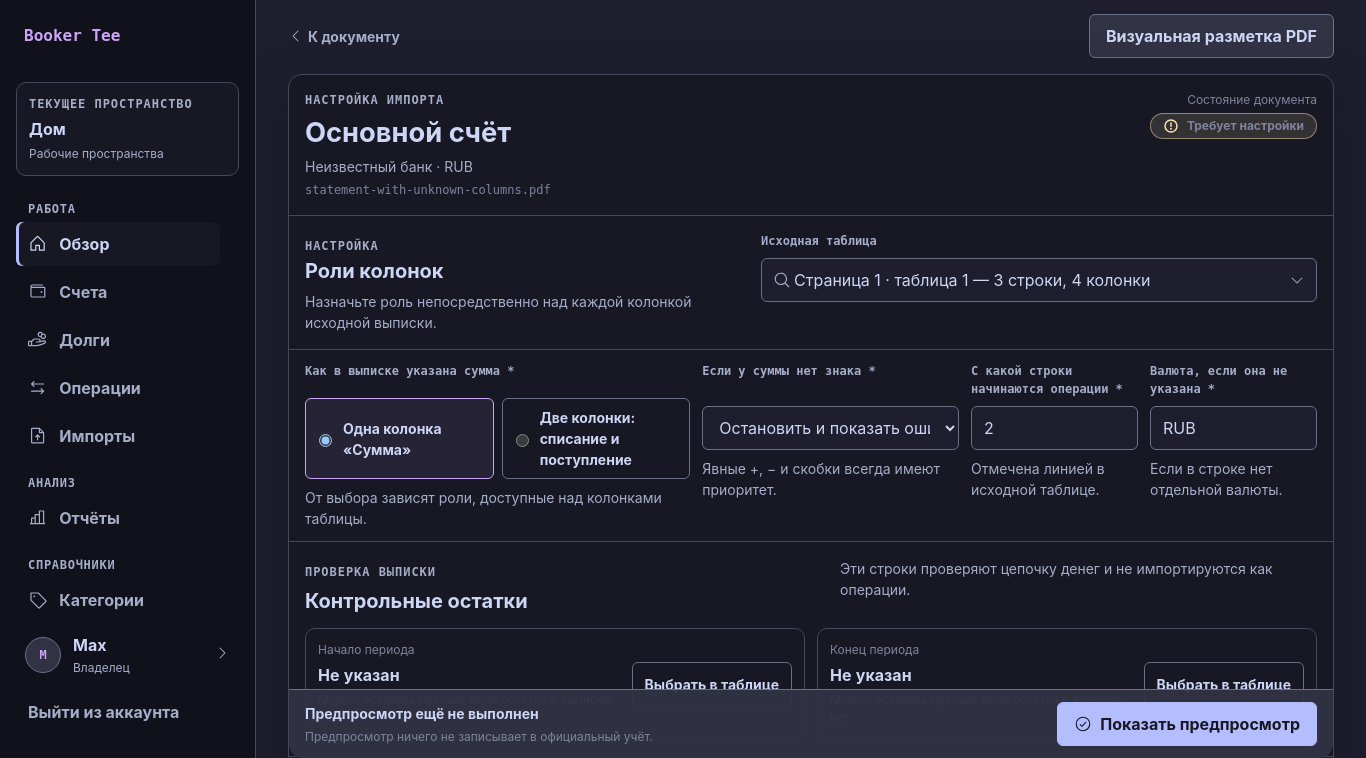
Test: ImportMappingPage › shows a server preview and marks it stale after a draft change
Click the button "Показать предпросмотр": point(1187, 724) [1057,702,1317,746]
(page scrolled)
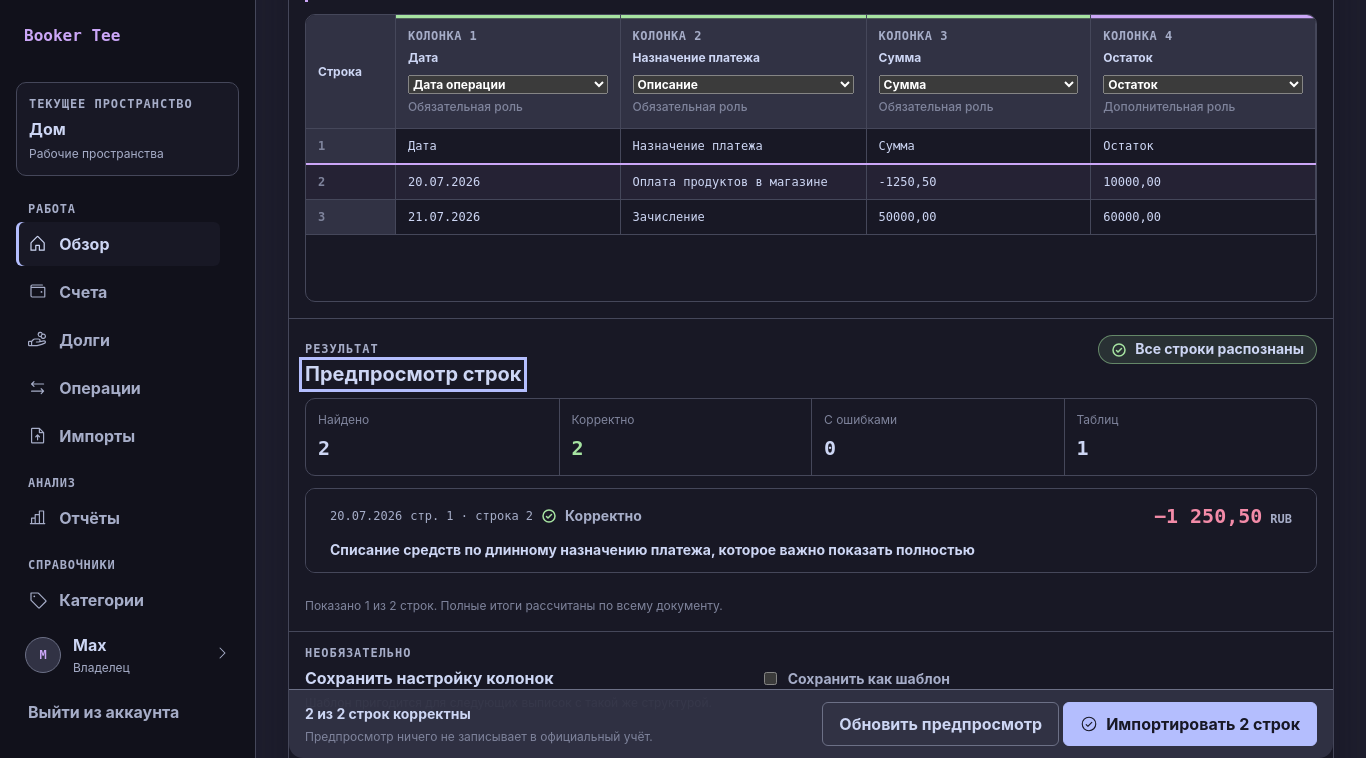
Check: the text "Списание средств по длинному назначению платежа, которое важно показать полностью" is shown, box [330,541,975,558]
Check: the element labelled "−1 250,50 RUB" is shown, box [1154,501,1292,531]
Check: the text "2 из 2 строк корректны" is shown, box [305,704,471,722]
Select "Описание" in the dropdown named "Роль колонки 4, Остаток": point(1203, 85) [1103,75,1303,94]
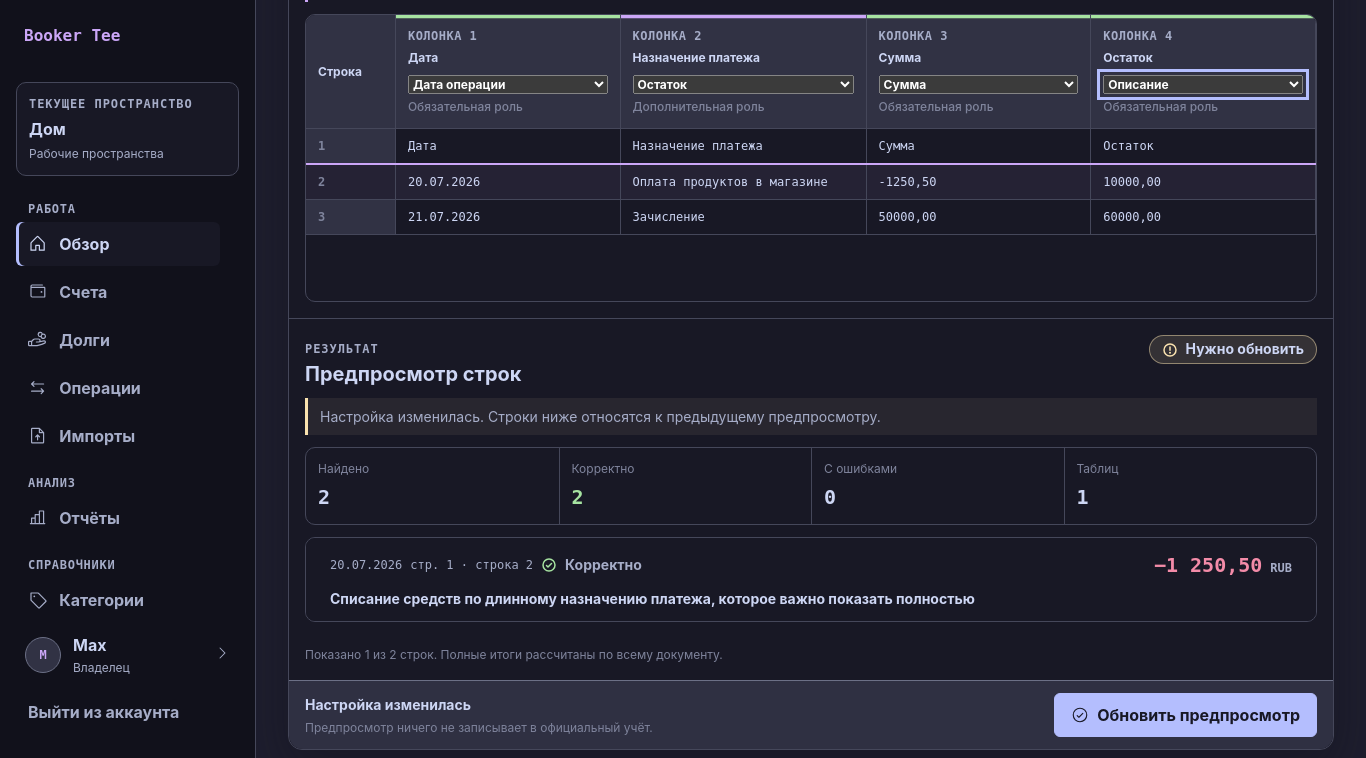
Check: the text "Нужно обновить" is shown, box [1149,335,1317,364]
Check: the text "Настройка изменилась. Строки ниже относятся к предыдущему предпросмотру." is shown, box [305,398,1317,435]
Check: the dropdown named "Роль колонки 2, Назначение платежа" shows "Остаток", box [633,75,854,94]
